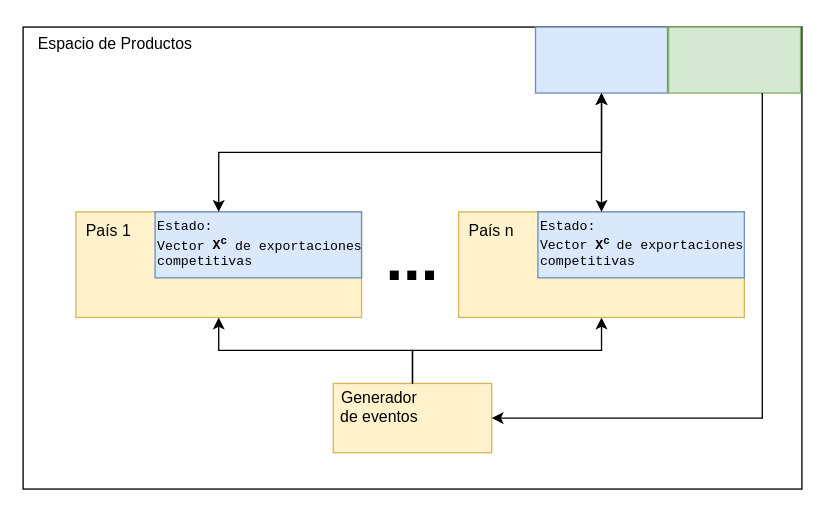
This 825x512 diagram has some shape labels left out. The centre of each missing label's shape, as x and y in pixels:
Constantes: Ω (parámetro de difusión): pixel 734 59
Estado: Matriz ϕ global: pixel 601 59
